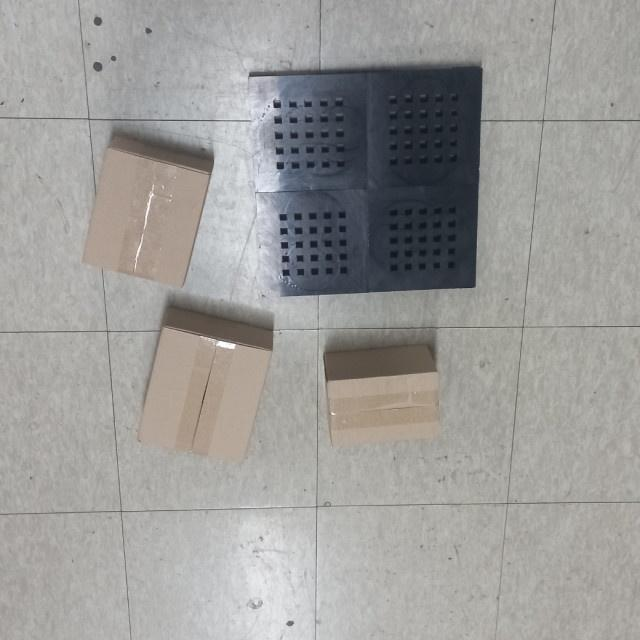box: (130, 300, 280, 470), (75, 130, 221, 296), (317, 338, 448, 452)
pallet: (242, 59, 493, 304)
